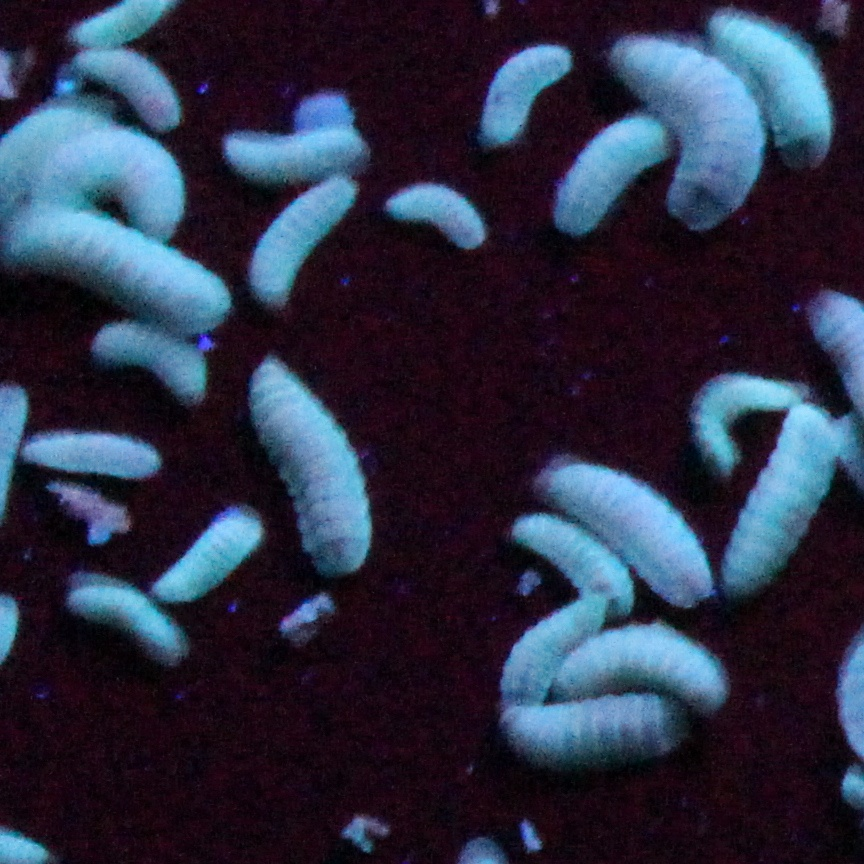larve: (605, 44, 774, 218), (19, 204, 225, 332), (251, 372, 385, 566), (705, 421, 828, 595), (574, 459, 697, 598), (248, 172, 362, 304), (719, 12, 825, 149), (557, 632, 725, 704), (510, 516, 633, 613), (482, 598, 605, 692), (548, 124, 668, 218), (471, 35, 574, 144), (674, 378, 797, 452), (68, 584, 191, 658), (148, 518, 268, 589), (217, 132, 379, 184), (91, 329, 214, 392), (499, 709, 679, 752), (391, 172, 482, 244), (34, 435, 159, 481)
